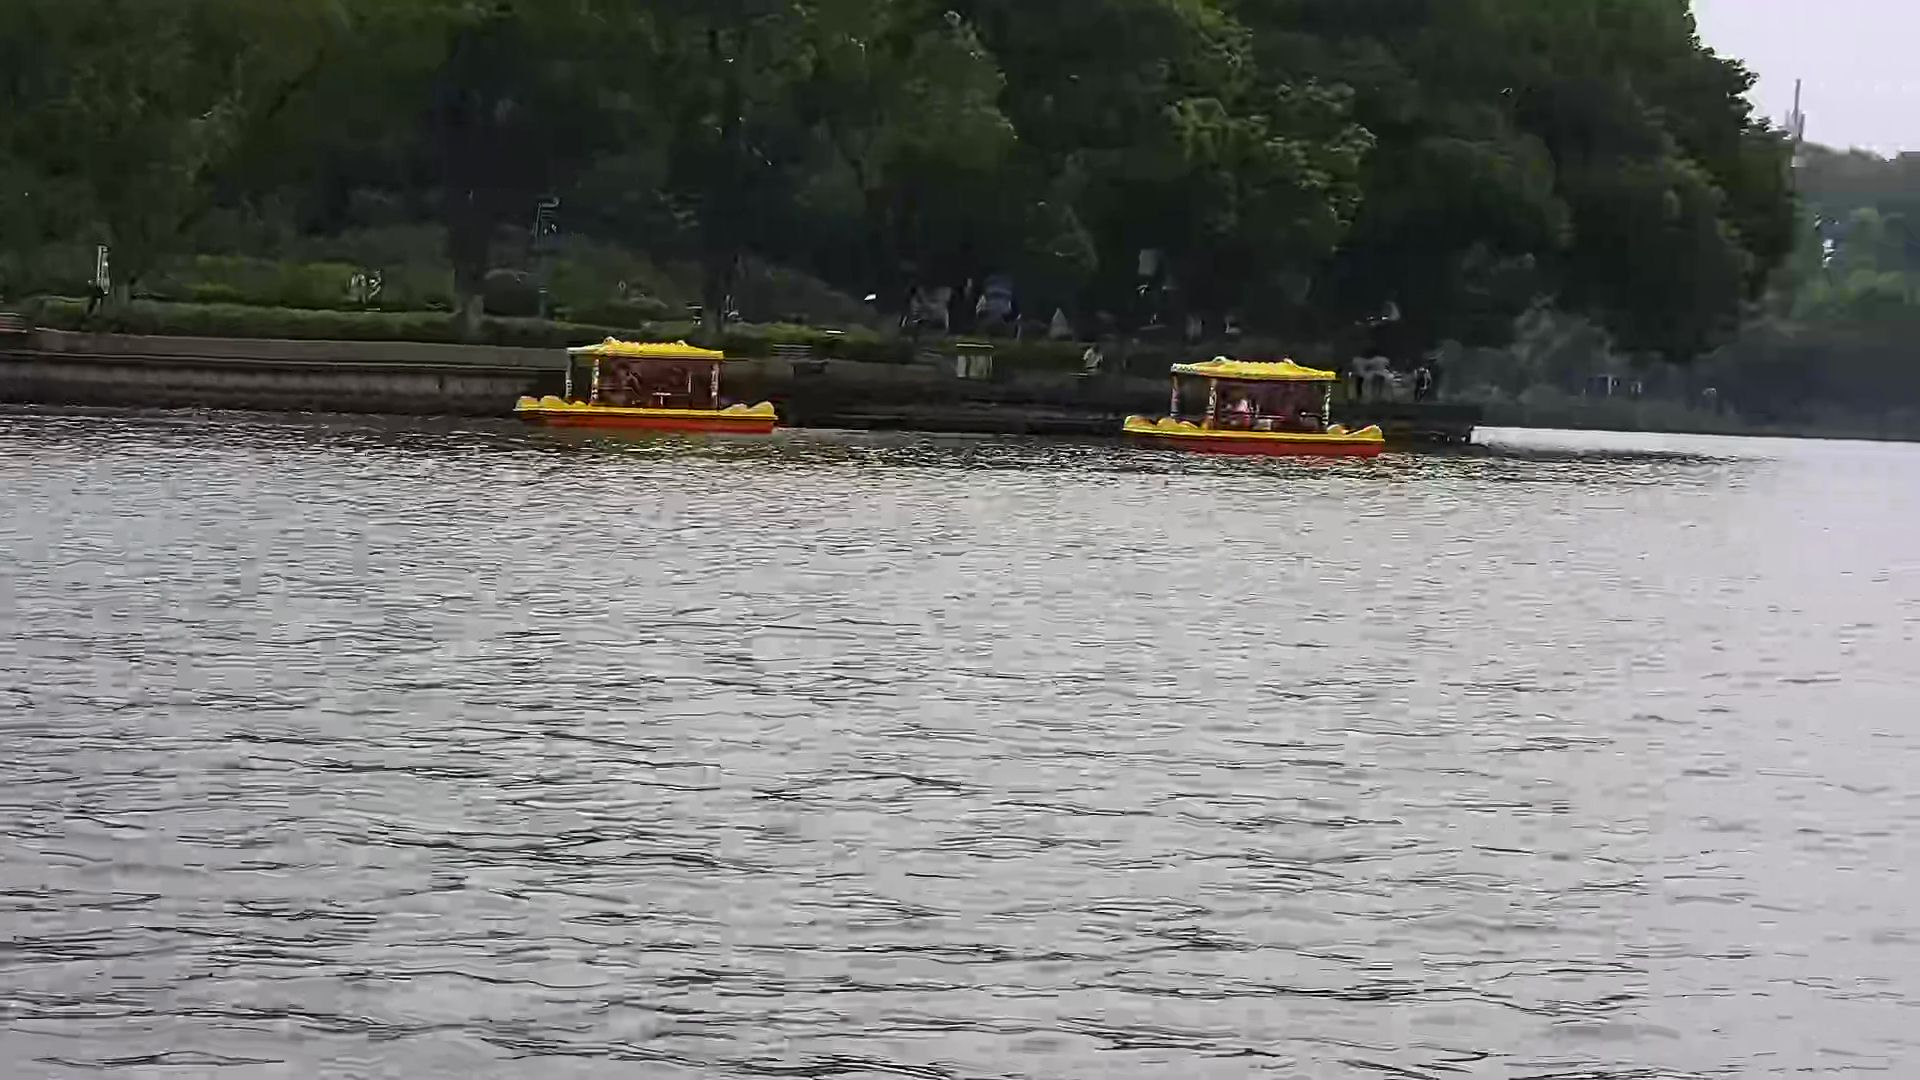boat: (1101, 342, 1403, 463), (484, 324, 803, 436)
